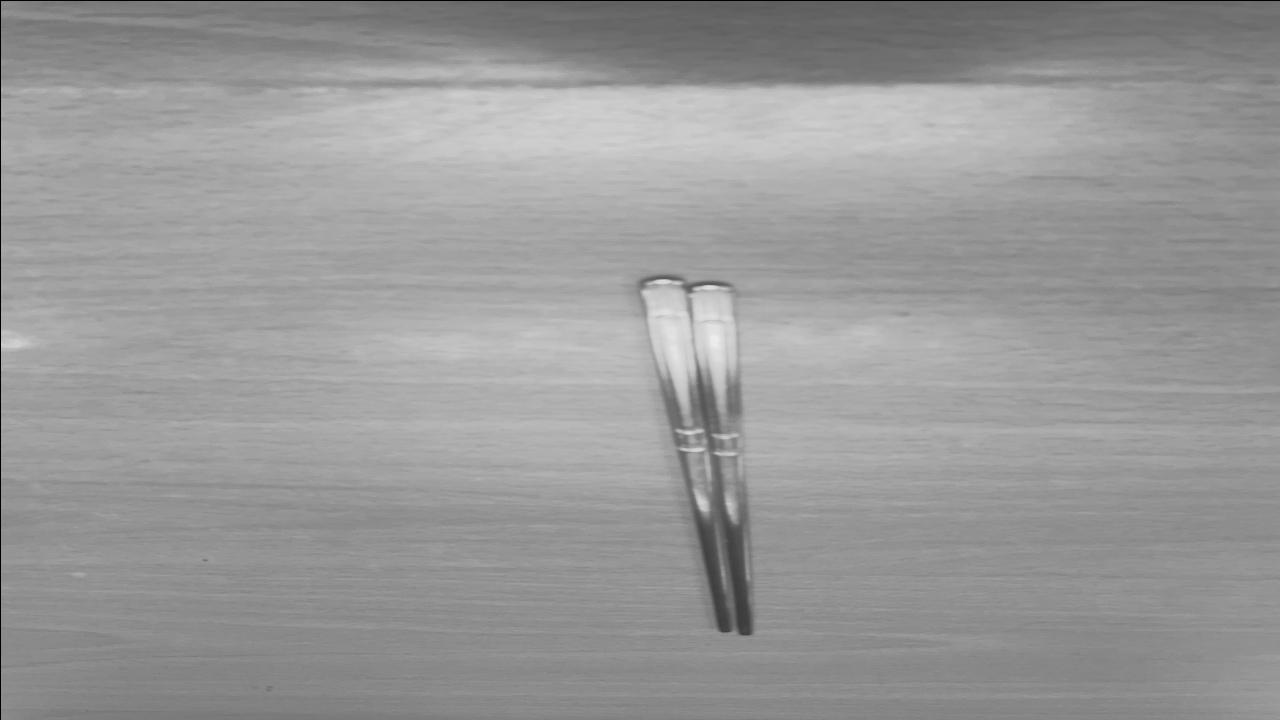chopstick: (643, 282, 751, 634)
